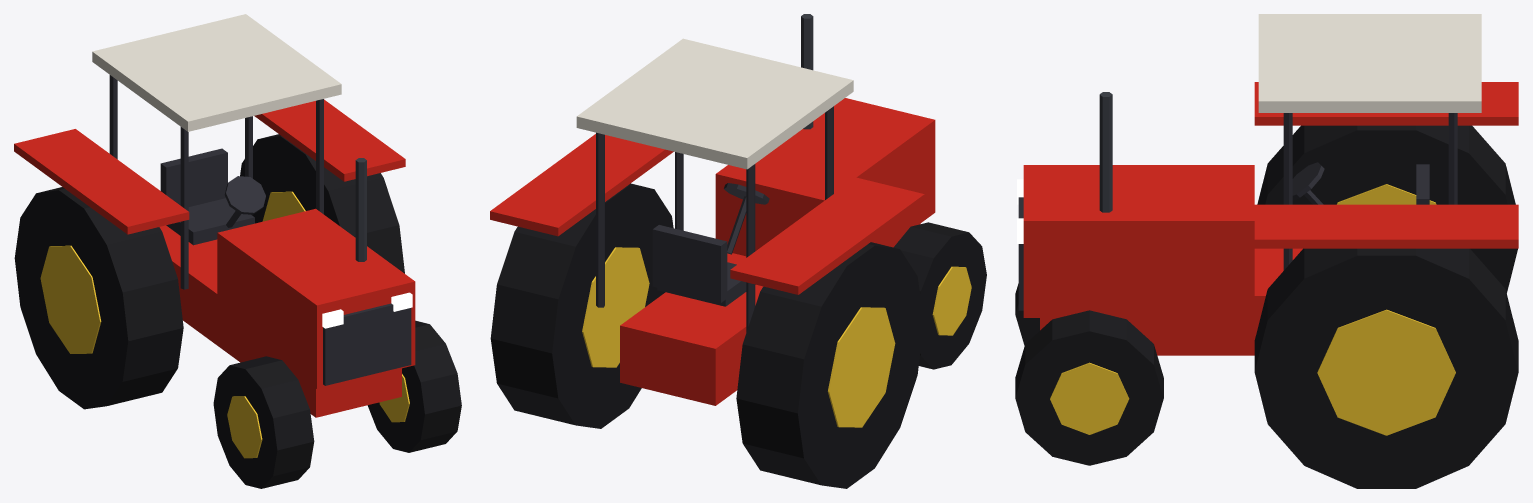
File: tractor.glb
3 views of the same model, side by side, from view 1: azimuth 30°, elevation 25°; view 2: azimuth 150°, elevation 25°; view 3: azimuth 270°, elevation 25° (orthographic). The views are drawn at different scales.
Visible parts, largest first — view 1: tractor; view 2: tractor; view 3: tractor.
Boxes of the visible parts, x1,y1,x2,y2 form: tractor: [14, 14, 461, 488]; tractor: [490, 14, 986, 488]; tractor: [1015, 14, 1518, 488].
Size of the model in its own units: 2.27 by 2.38 by 3.05.
